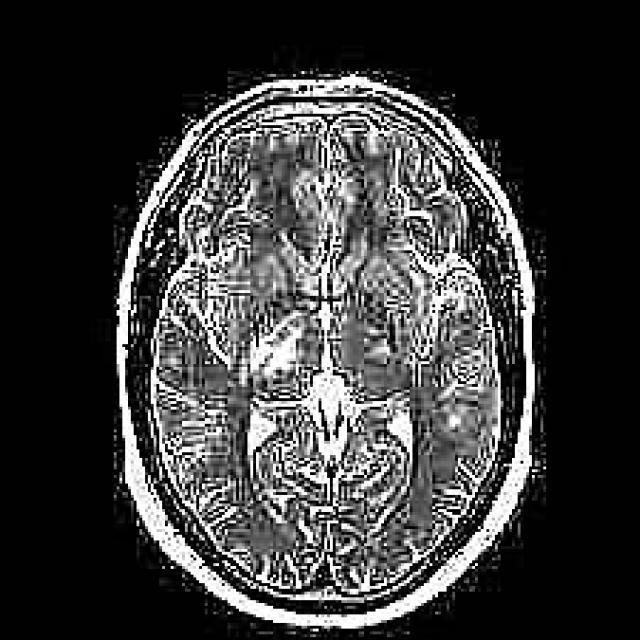notumor: (119, 77, 540, 634)
